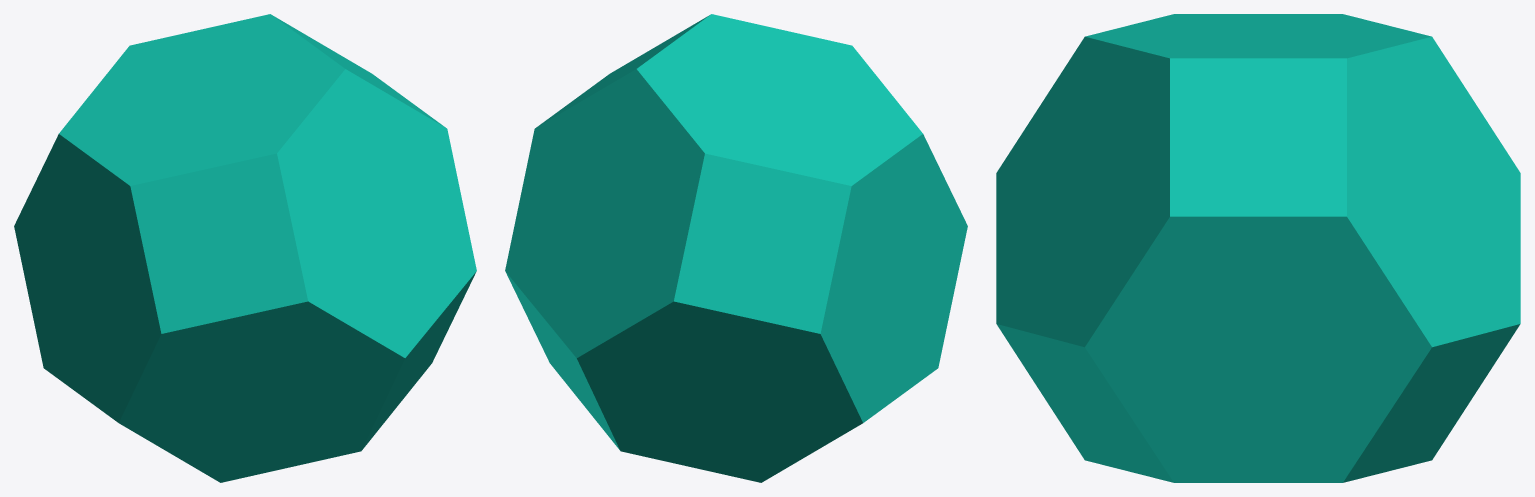
Rendered from blue.glb.
The picture shows the model from 3 angles, left to right: view 1: azimuth 30°, elevation 25°; view 2: azimuth 150°, elevation 25°; view 3: azimuth 270°, elevation 25°; orthographic projection. The views are drawn at different scales.
Parts seen in each view (by area): view 1: Cube.002_Cube.000; view 2: Cube.002_Cube.000; view 3: Cube.002_Cube.000.
Part boxes in pixels (<box>): Cube.002_Cube.000: <box>14,14,476,482</box>; Cube.002_Cube.000: <box>505,14,967,482</box>; Cube.002_Cube.000: <box>996,14,1520,482</box>.
Size of the model in its own units: 1.69 by 1.89 by 1.99.
1 material, 1 textured.
